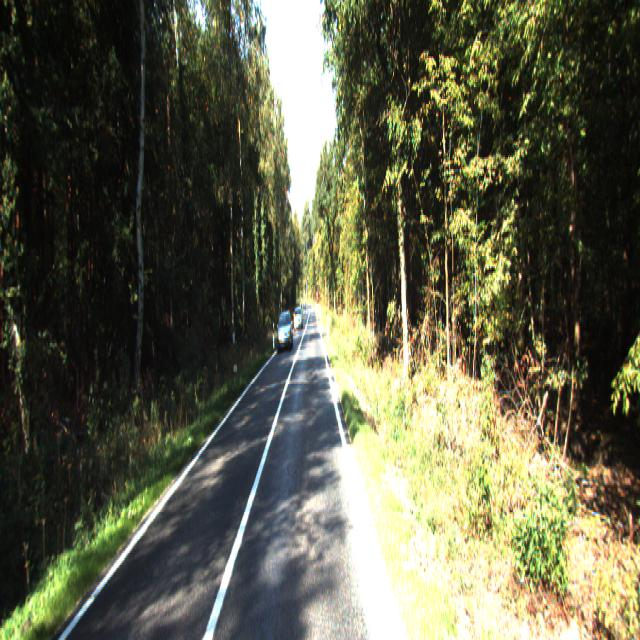Car: (275, 310, 293, 354)
